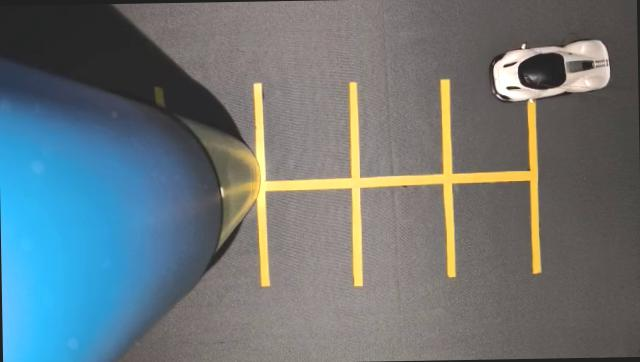toy_car: (473, 21, 630, 125)
